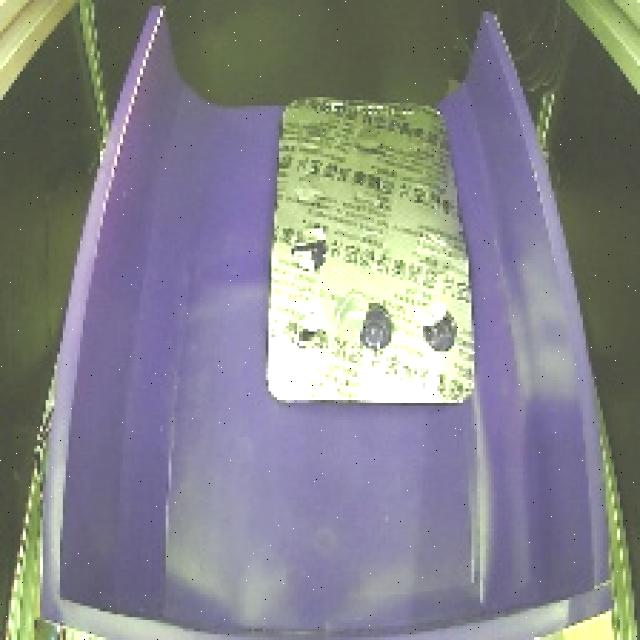med_plate: (251, 76, 490, 424)
